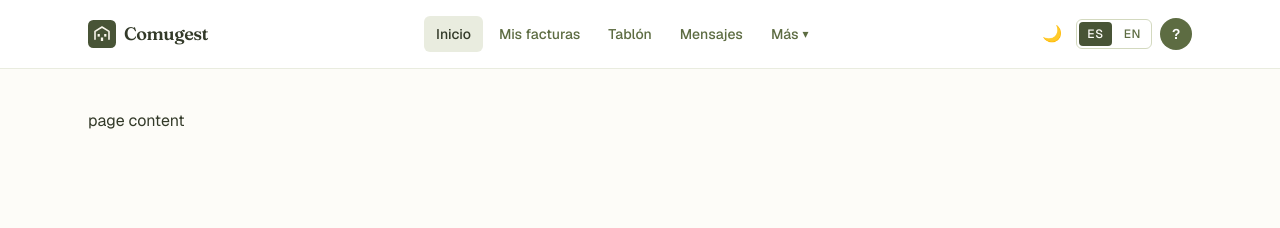
Test: Layout › renders the "Más" dropdown button (which contains Report link)
The image size is (1280, 228).
Step 1. Click the button "Más ▾" → point(790, 34), box [759,16,821,52]
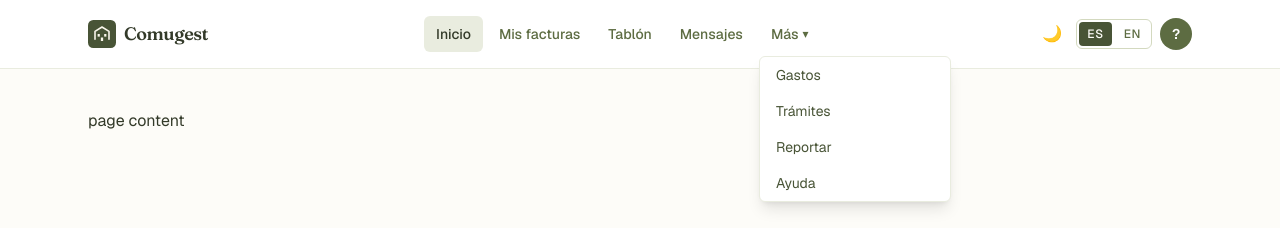
Now the link "Reportar" is shown, box [776,138,832,156]
